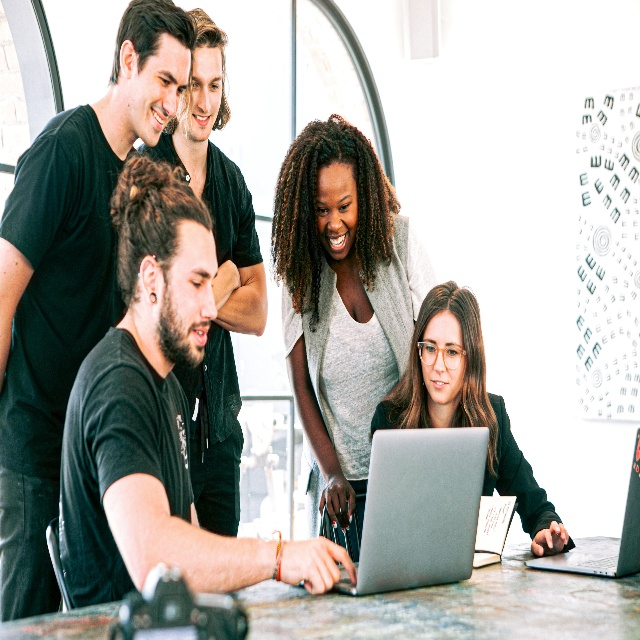Gafas: (417, 339, 468, 371)
Sin_guantes: (278, 533, 359, 597), (317, 474, 358, 536), (530, 519, 569, 560)
